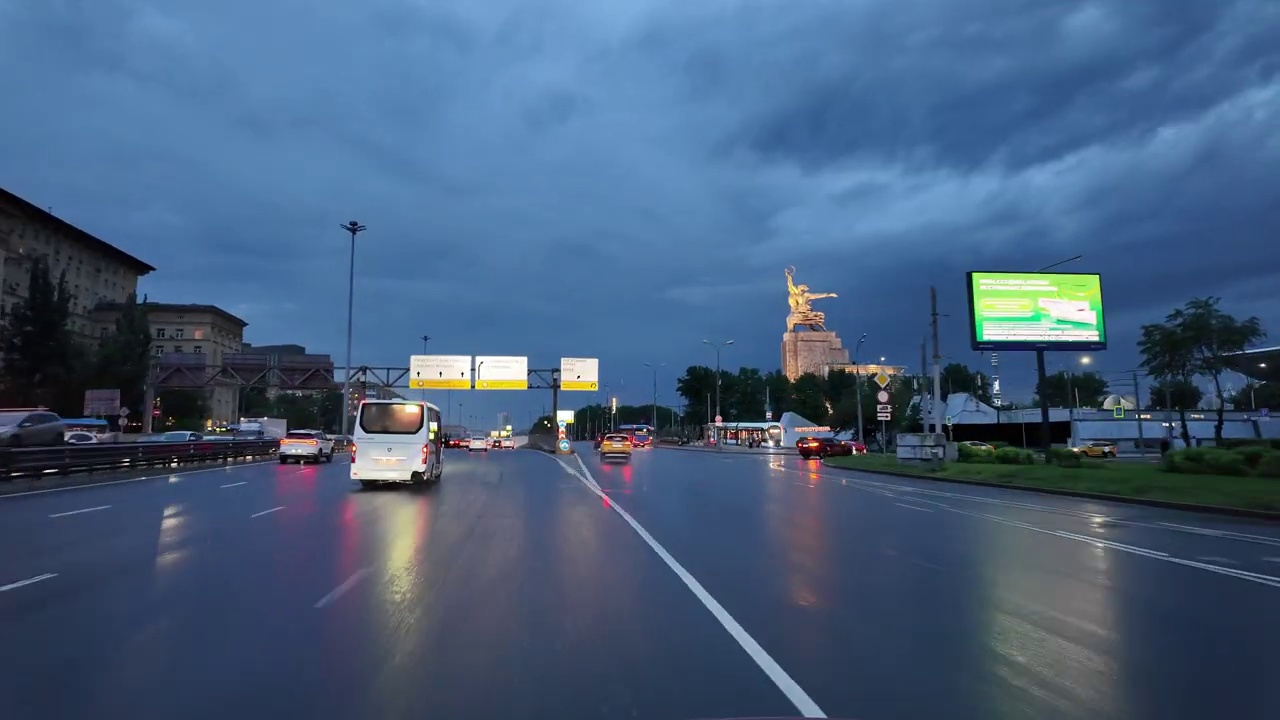apagada: (340, 217, 367, 240)
